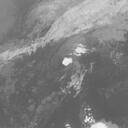cyclone: (58, 46, 90, 83)
